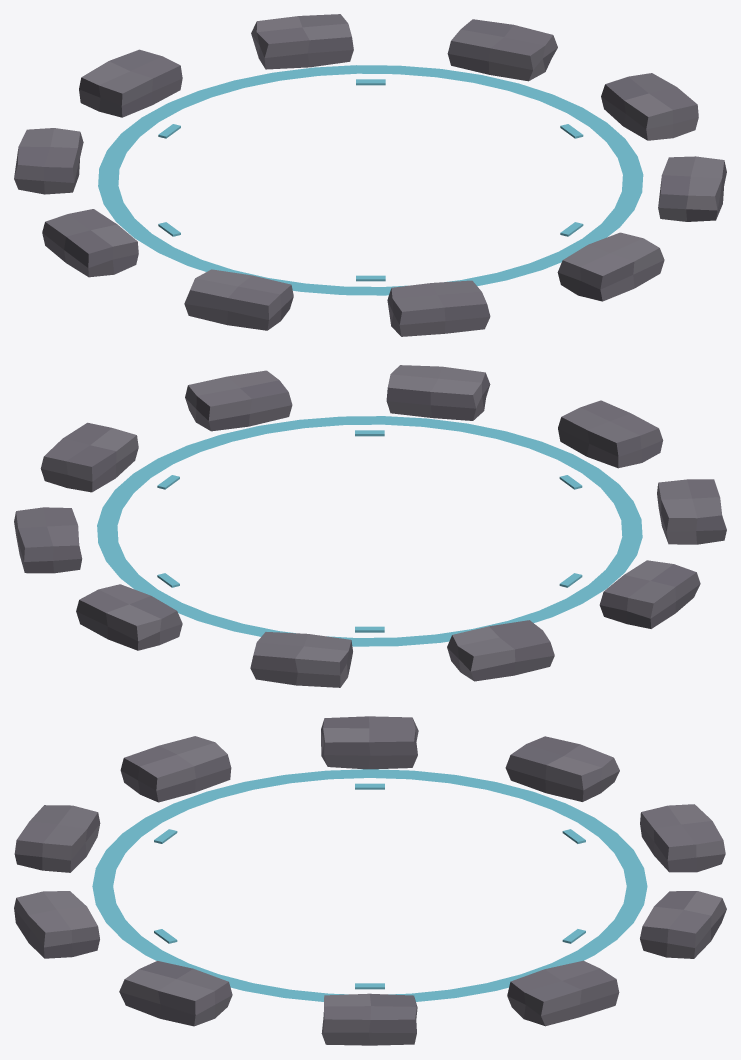
File: Current_Blue.fbx
3 views of the same model, one above another, from view 1: azimuth 30°, elevation 25°; view 2: azimuth 150°, elevation 25°; view 3: azimuth 270°, elevation 25° (orthographic).
Parts seen in each view (by area): view 1: Current_Blue; view 2: Current_Blue; view 3: Current_Blue.
Boxes of the visible parts, <box> form: Current_Blue: <box>14,14,726,336</box>; Current_Blue: <box>14,365,726,687</box>; Current_Blue: <box>14,716,726,1045</box>.
Bounding box in the file's own units: 3.81 × 0.166 × 3.78.
